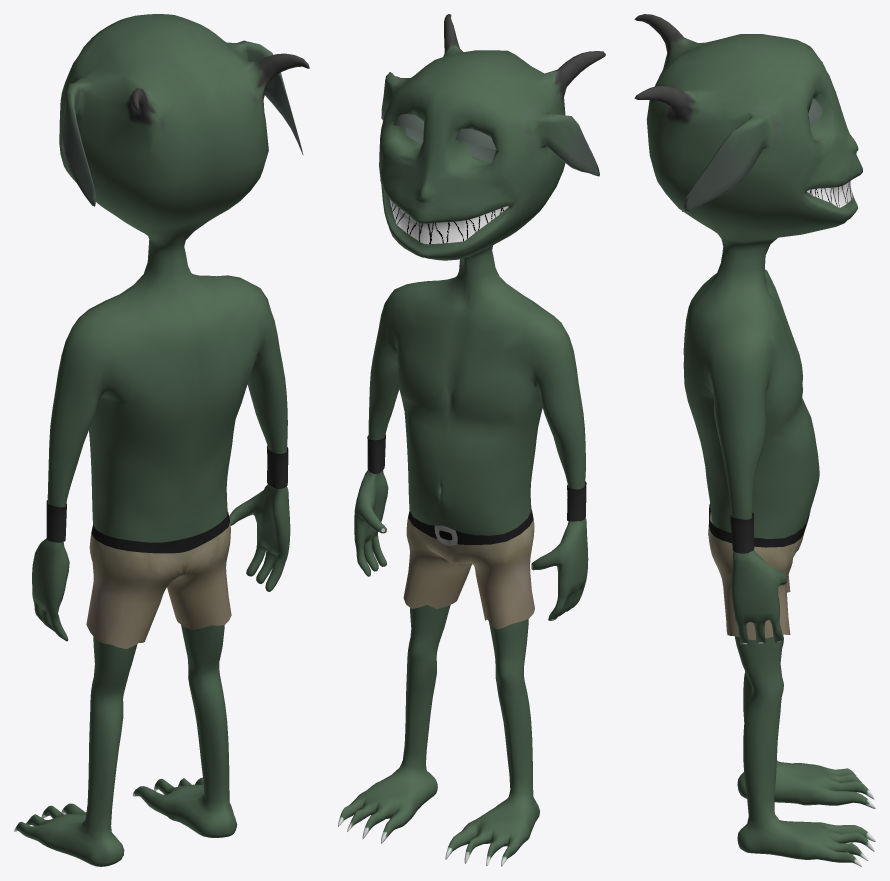
File: lwjglcharactergoblin8.obj
3 views of the same model, side by side, from view 1: azimuth 30°, elevation 25°; view 2: azimuth 150°, elevation 25°; view 3: azimuth 270°, elevation 25° (orthographic). The views are drawn at different scales.
Parts seen in each view (by area): view 1: Cube.002; view 2: Cube.002; view 3: Cube.002.
Part boxes in pixels (<box>): Cube.002: <box>14,14,309,866</box>; Cube.002: <box>338,14,605,866</box>; Cube.002: <box>634,14,875,866</box>.
Bounding box in the file's own units: 1.18 × 3.82 × 1.06.
